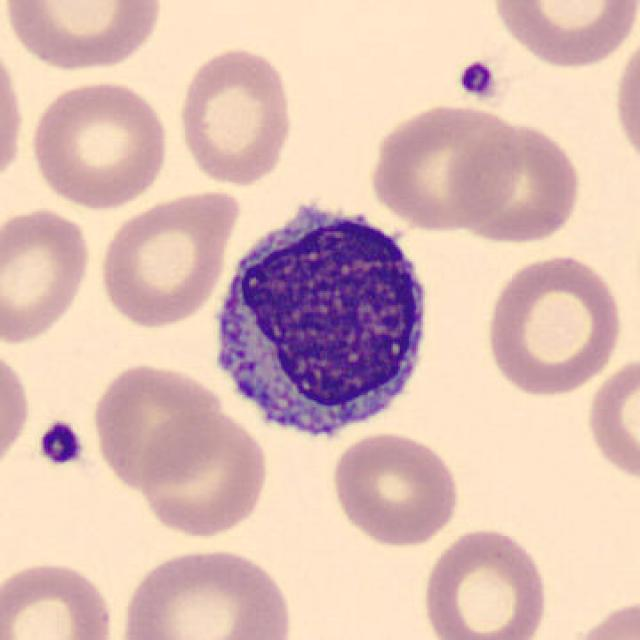Lymphocyte: (201, 187, 443, 451)
Platelets: (36, 416, 87, 469), (454, 56, 499, 102)
RBC: (94, 185, 242, 332), (480, 251, 626, 398), (364, 100, 524, 232), (25, 76, 172, 212), (172, 42, 297, 189), (89, 358, 224, 492), (135, 408, 272, 540), (448, 118, 587, 247), (114, 543, 297, 640), (327, 427, 464, 548), (418, 523, 553, 640), (0, 203, 94, 347), (0, 0, 167, 74), (487, 0, 638, 71), (0, 555, 119, 640), (583, 351, 638, 486), (0, 340, 34, 480), (610, 23, 640, 176), (0, 35, 28, 197), (565, 596, 640, 640)
